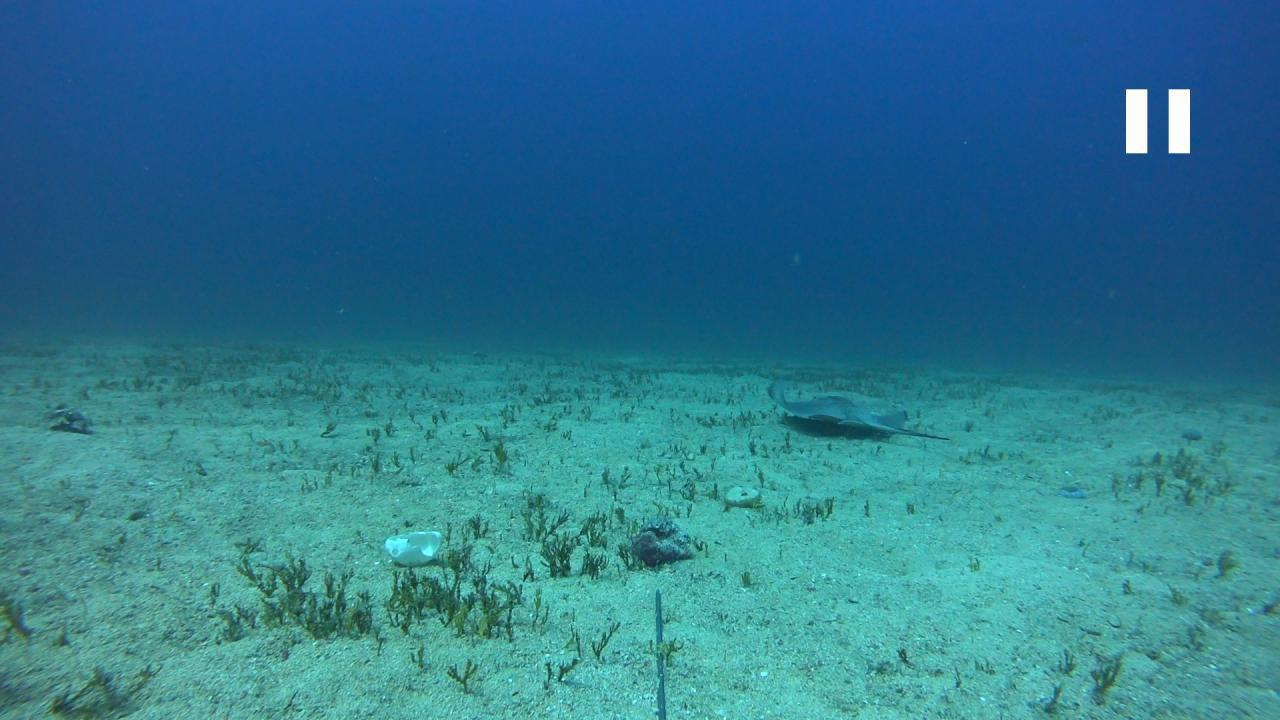dasyatis: (768, 375, 952, 442)
